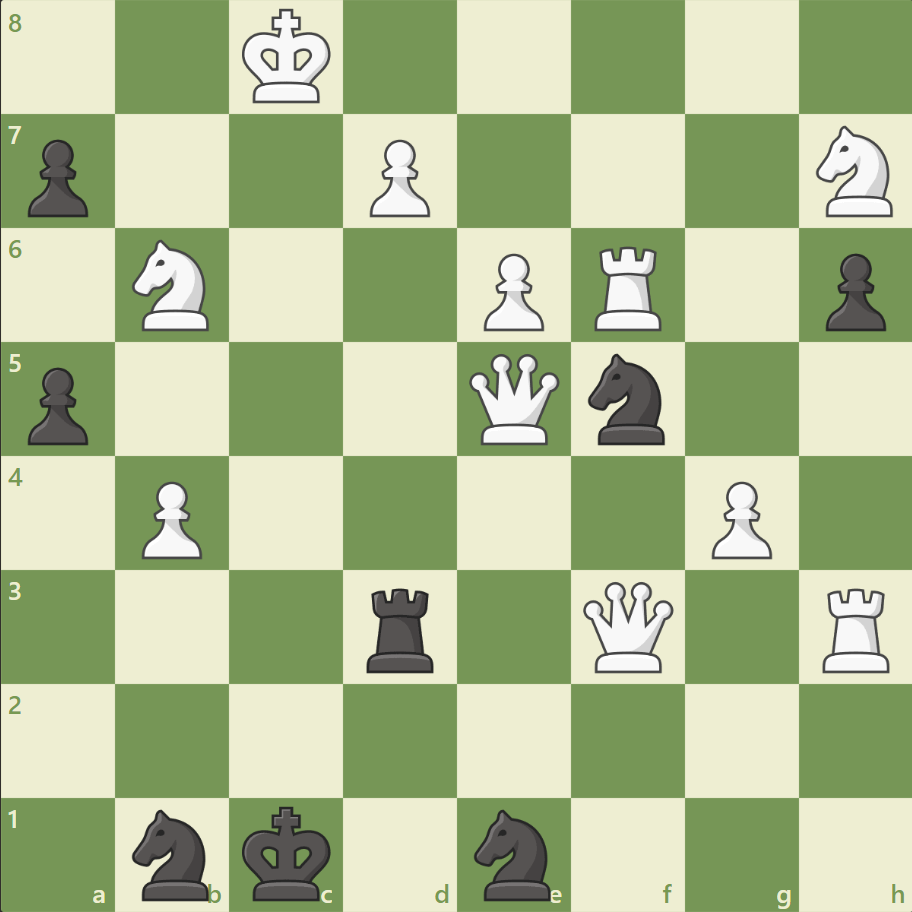K: (238, 4, 338, 112)
N: (124, 234, 222, 337), (806, 121, 903, 223)
P: (474, 246, 549, 337), (133, 473, 208, 564), (701, 473, 776, 564), (361, 132, 435, 223)
Q: (464, 349, 563, 449), (578, 576, 677, 676)
R: (587, 239, 670, 336), (814, 579, 897, 676)
k: (238, 798, 338, 906)
n: (124, 802, 222, 904), (579, 348, 676, 450), (465, 802, 562, 904)
p: (20, 132, 95, 223), (20, 359, 95, 450), (815, 246, 889, 337)
r: (360, 579, 442, 676)
